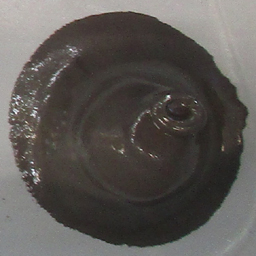perfect: (7, 5, 249, 249)
